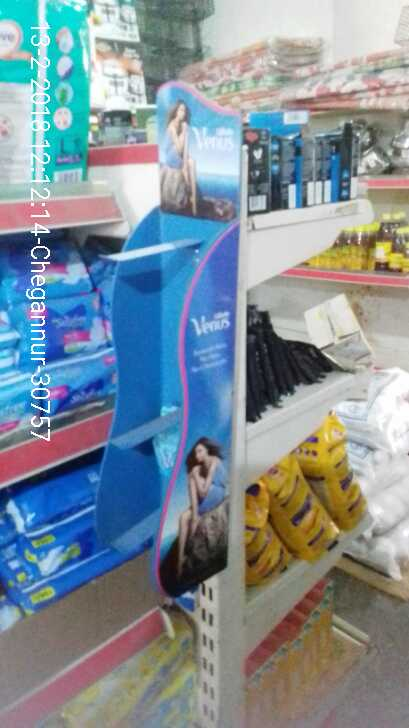reject: (170, 289, 254, 367)
